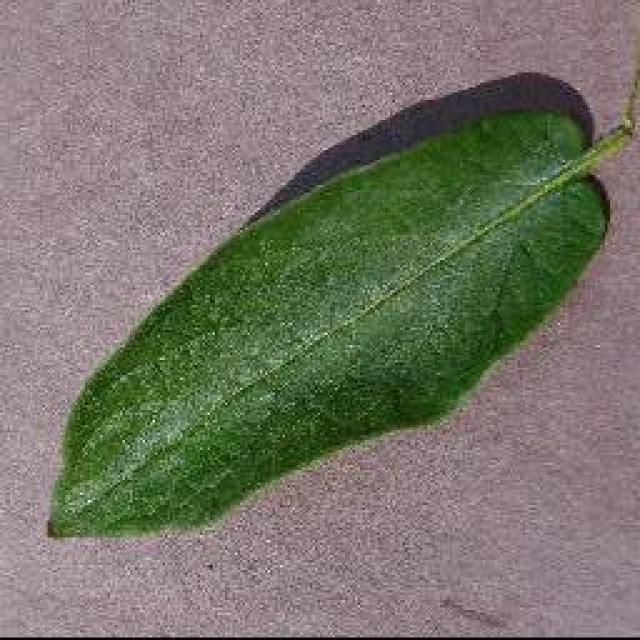Potato___healthy: (47, 56, 638, 543)
